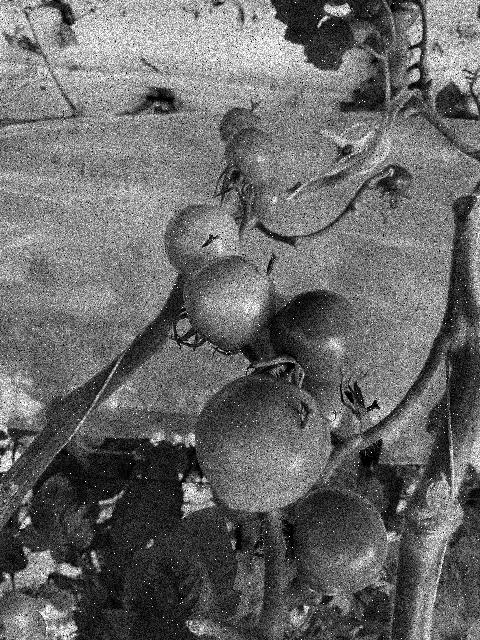l_fully_ripened: (269, 288, 365, 383), (371, 0, 424, 36), (376, 164, 413, 197), (389, 0, 436, 6)
l_green: (184, 255, 277, 349), (280, 367, 356, 466), (163, 203, 240, 276), (225, 126, 280, 186), (0, 590, 39, 639), (218, 107, 266, 145), (246, 177, 287, 221), (0, 612, 46, 640)
l_half_ripened: (194, 373, 331, 513), (291, 487, 388, 598)
